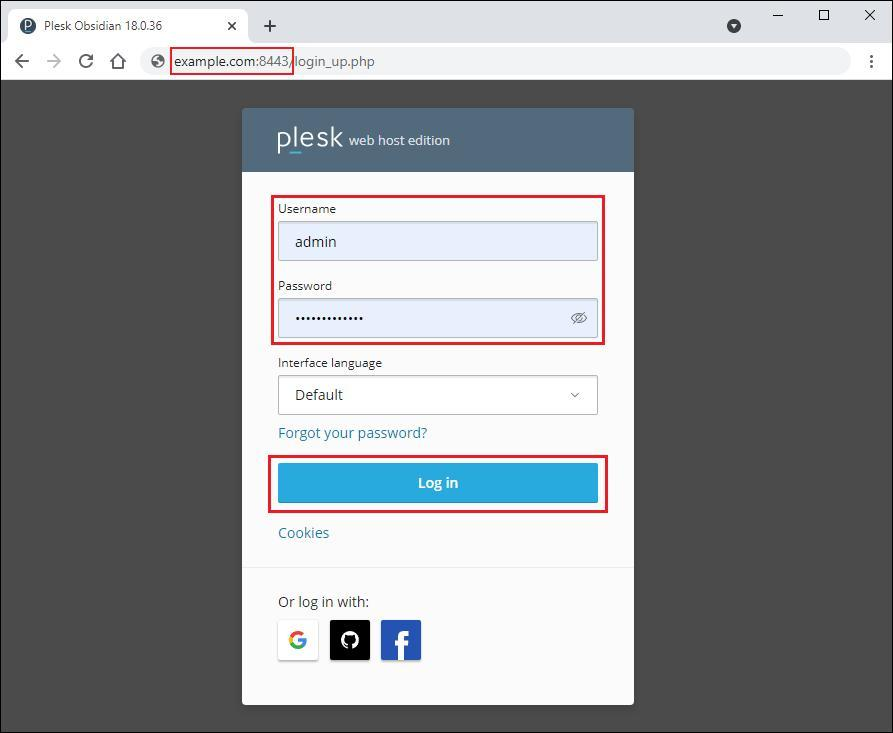button: (277, 465, 600, 505), (378, 616, 425, 665), (276, 617, 323, 664), (327, 617, 373, 664)
dropdown: (277, 375, 600, 417)
icon: (567, 307, 593, 331)
input: (278, 220, 600, 264), (278, 297, 600, 338)
label: (274, 358, 384, 370), (279, 200, 341, 219), (277, 279, 335, 293)
